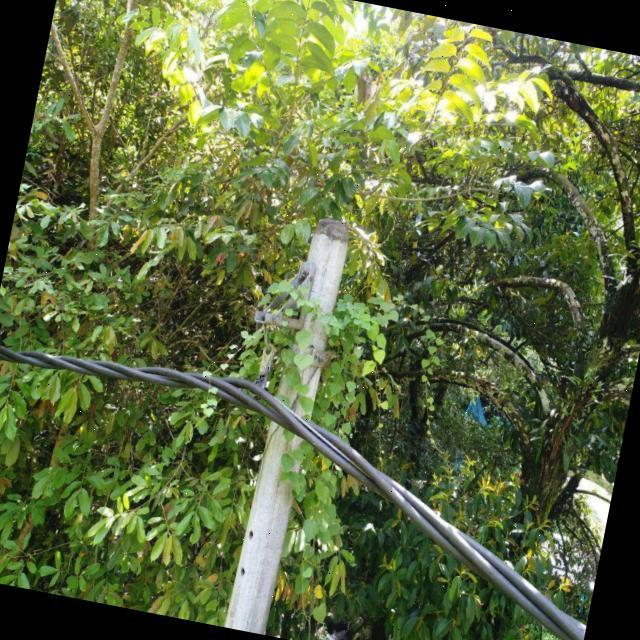critical vegetation: (200, 197, 435, 542)
